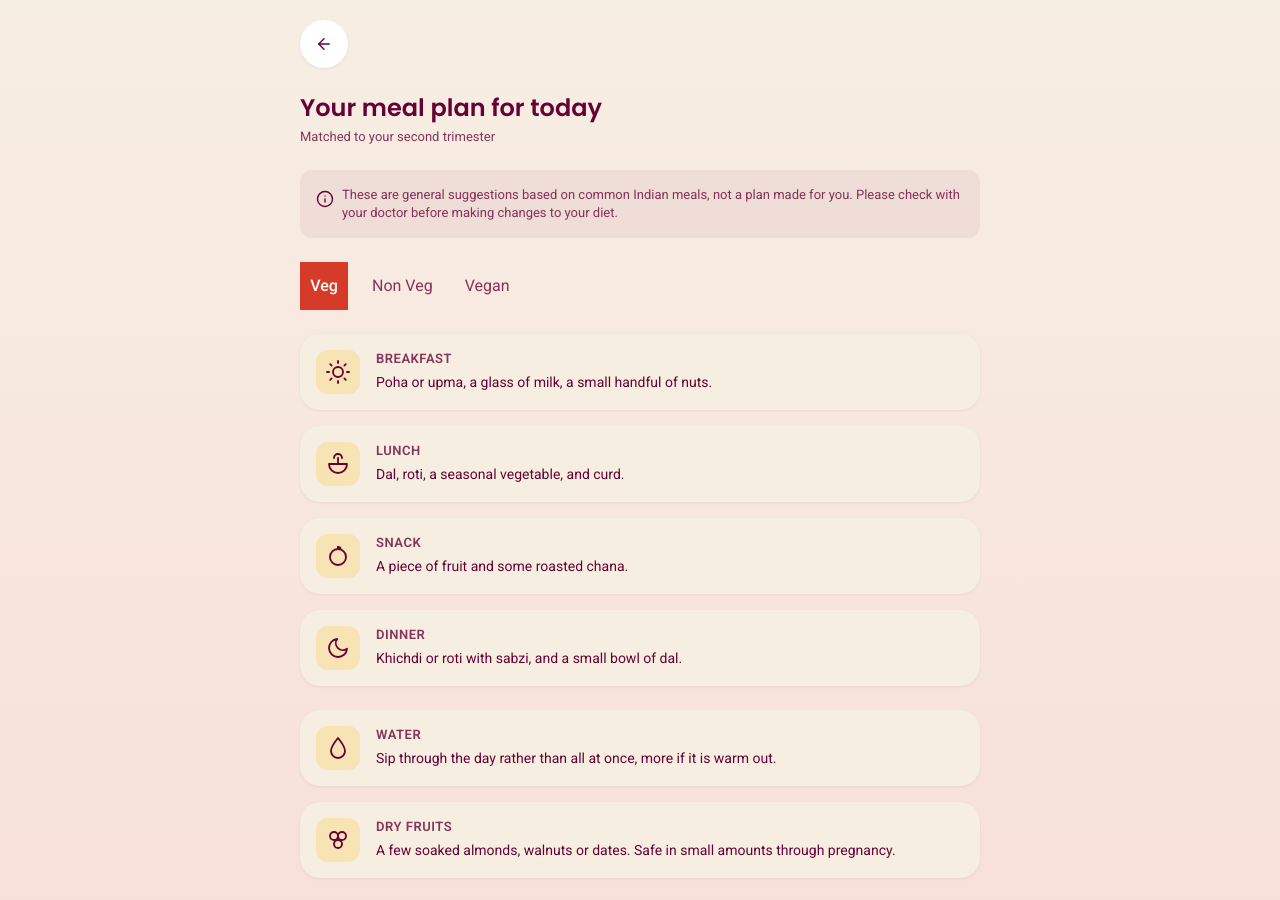
it: MealPlanScreen › changes breakfast, lunch and dinner while keeping snack and extras stable
Expected: the text "Poha or upma, a glass of milk, a small handful of nuts." is shown, [376,374,712,390]
Expected: the text "Dal, roti, a seasonal vegetable, and curd." is shown, [376,466,624,482]
What coordinates should you click on to do the following:
click the tab "Non Veg"
I would click on:
 (402, 286)
Its box is [364,262,441,310].
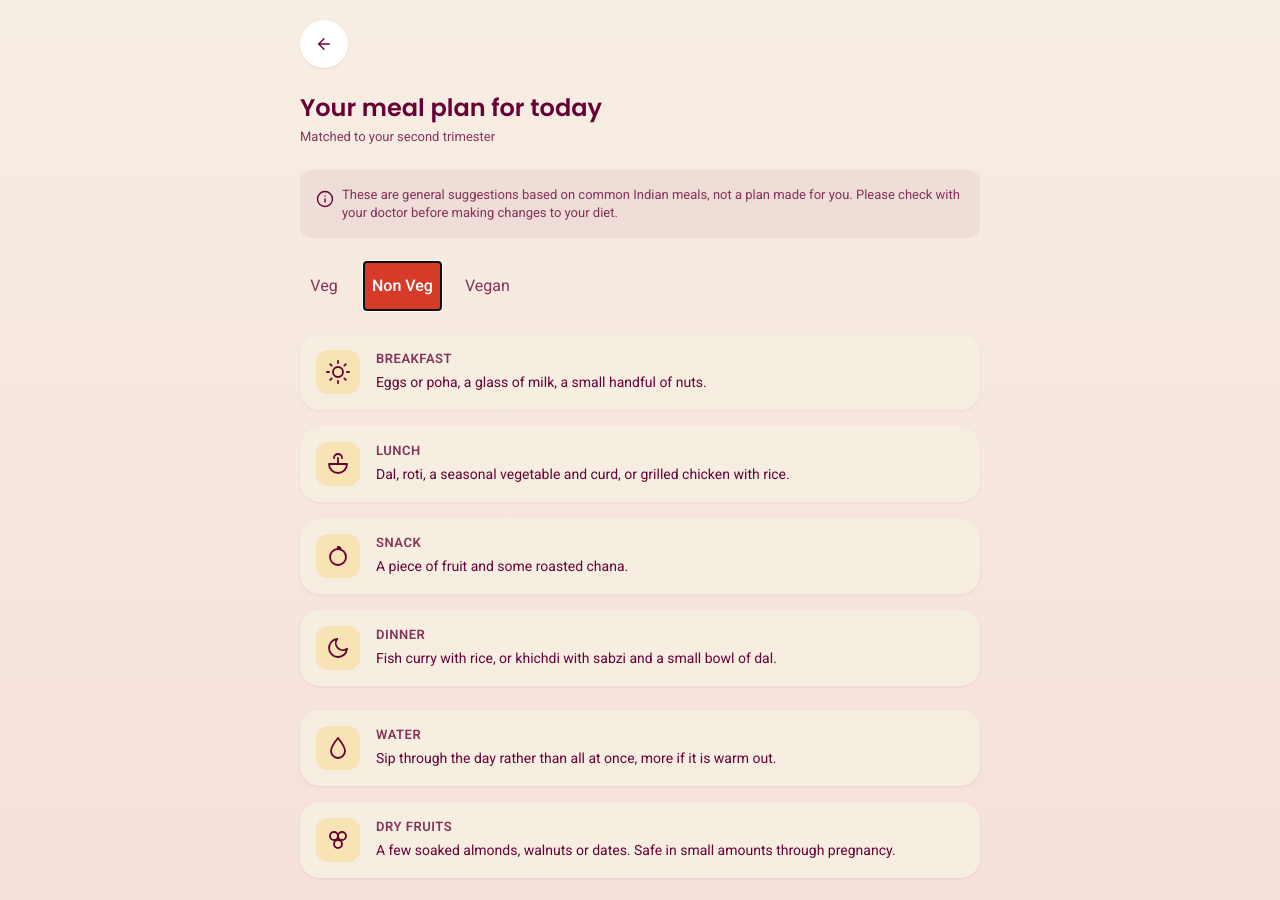
Expected: the text "Eggs or poha, a glass of milk, a small handful of nuts." is shown, [376,374,707,390]
Expected: the text "Dal, roti, a seasonal vegetable and curd, or grilled chicken with rice." is shown, [376,466,790,482]
Expected: the text "Fish curry with rice, or khichdi with sabzi and a small bowl of dal." is shown, [376,650,777,666]
What coordinates should you click on to do the following:
click the tab "Vegan"
I would click on:
 (487, 286)
Its box is [457,262,518,310].
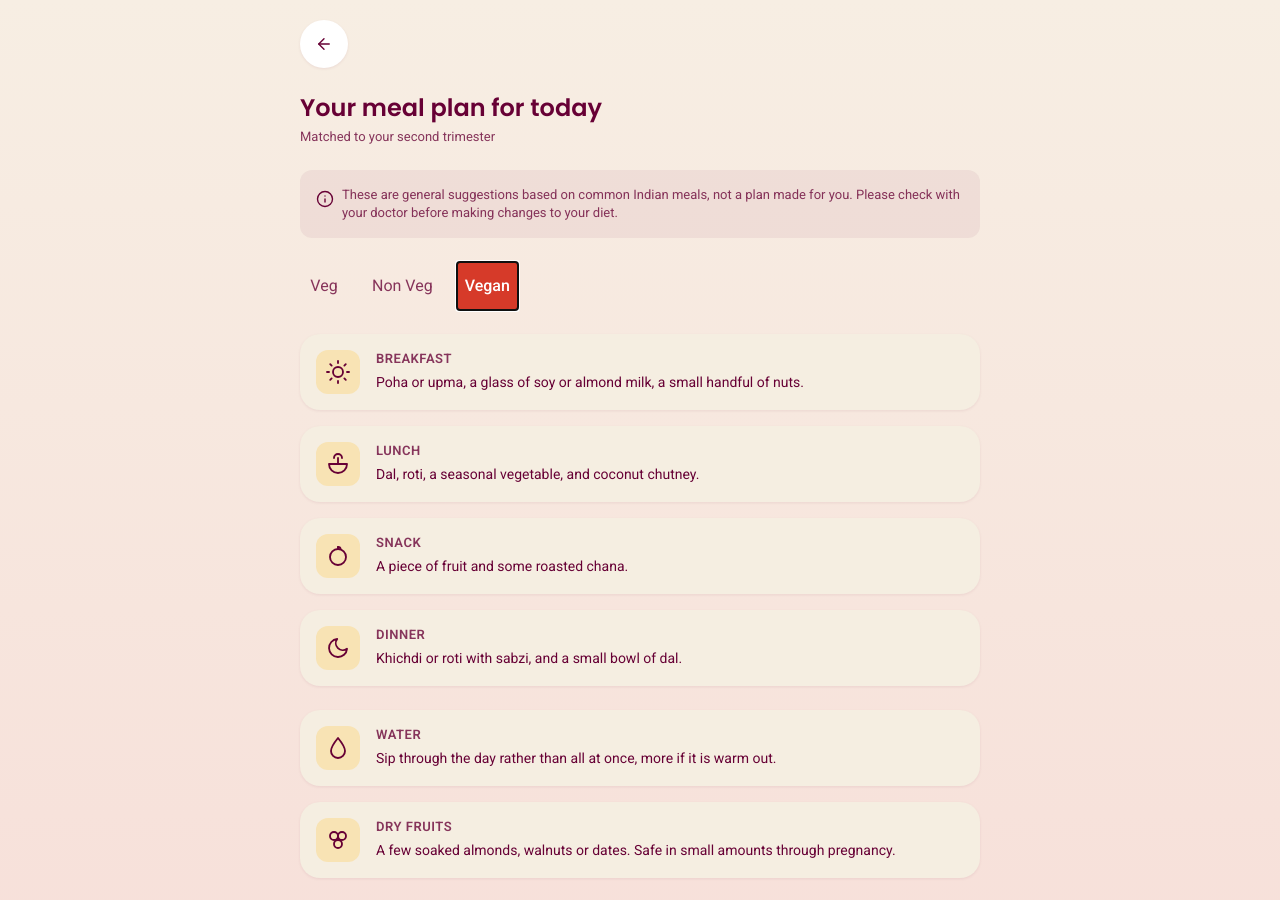
Expected: the text "Poha or upma, a glass of soy or almond milk, a small handful of nuts." is shown, [376,374,804,390]
Expected: the text "Dal, roti, a seasonal vegetable, and coconut chutney." is shown, [376,466,699,482]
Expected: the text "Khichdi or roti with sabzi, and a small bowl of dal." is shown, [376,650,682,666]
